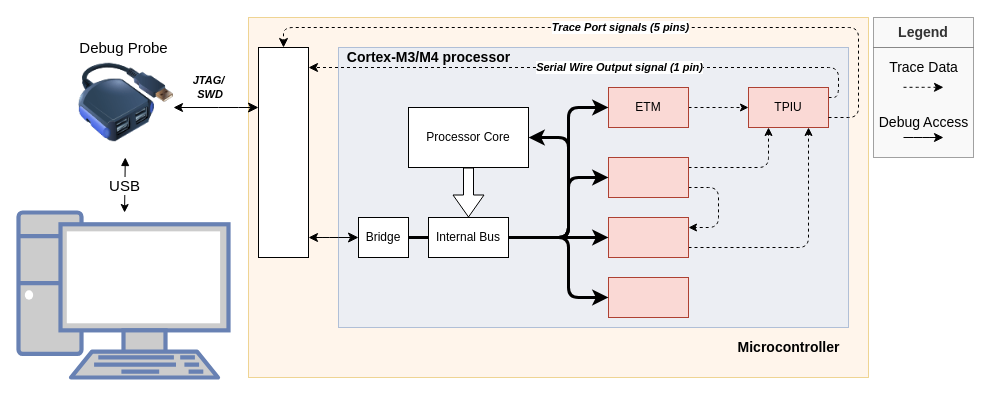
The diagram is 995 pixels wide and 396 high, and some of its shapes have lost their labels. The box of each missing label's shape, as (x1, y1, x2, y2) in pixels:
Connector: (258, 46, 308, 258)
DWT: (608, 156, 688, 198)
FPB: (608, 276, 688, 318)
ITM: (608, 216, 688, 258)
